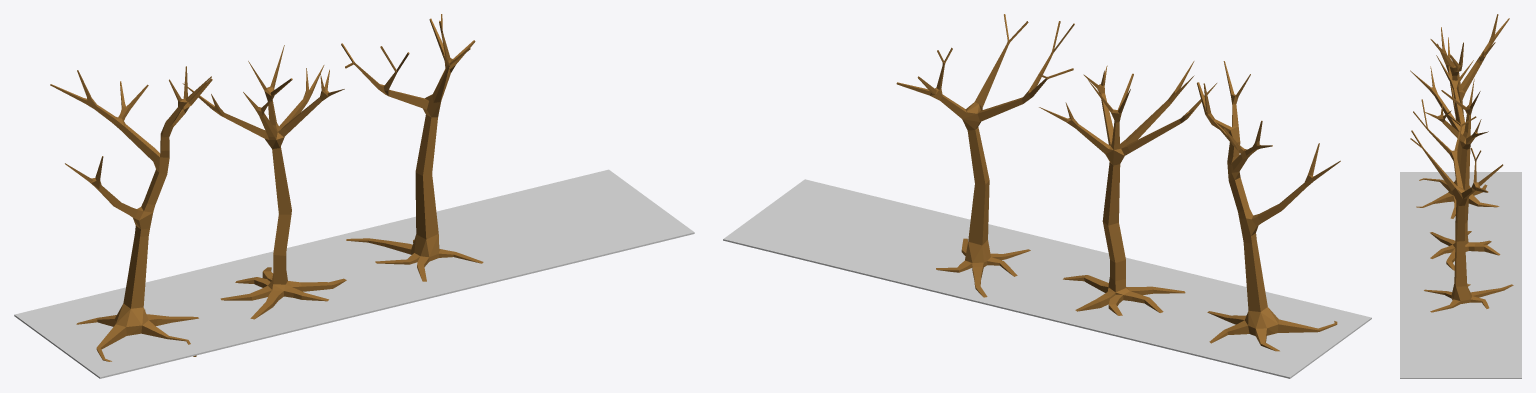
Rendered from maru.environment (2).glb.
3 renders of one model, left to right at view 1: azimuth 30°, elevation 25°; view 2: azimuth 150°, elevation 25°; view 3: azimuth 270°, elevation 25°, orthographic. The views are drawn at different scales.
Parts seen in each view (by area): view 1: Tile, Tile.001, Tile.002, Tile.003; view 2: Tile.001, Tile, Tile.002, Tile.003; view 3: Tile.002, Tile.001, Tile, Tile.003.
Boxes of the visible parts, left/top/right/bottom form: Tile: left=14, top=66, right=248, bottom=378; Tile.001: left=163, top=45, right=397, bottom=342; Tile.002: left=312, top=14, right=545, bottom=306; Tile.003: left=460, top=169, right=694, bottom=269; Tile.001: left=1006, top=61, right=1229, bottom=344; Tile: left=1148, top=61, right=1371, bottom=378; Tile.002: left=865, top=14, right=1087, bottom=309; Tile.003: left=723, top=179, right=946, bottom=274; Tile.002: left=1400, top=99, right=1521, bottom=326; Tile.001: left=1400, top=55, right=1521, bottom=274; Tile: left=1400, top=14, right=1521, bottom=223; Tile.003: left=1400, top=326, right=1521, bottom=378.
Bounding box in the file's own units: 8.02 × 3.32 × 2.
